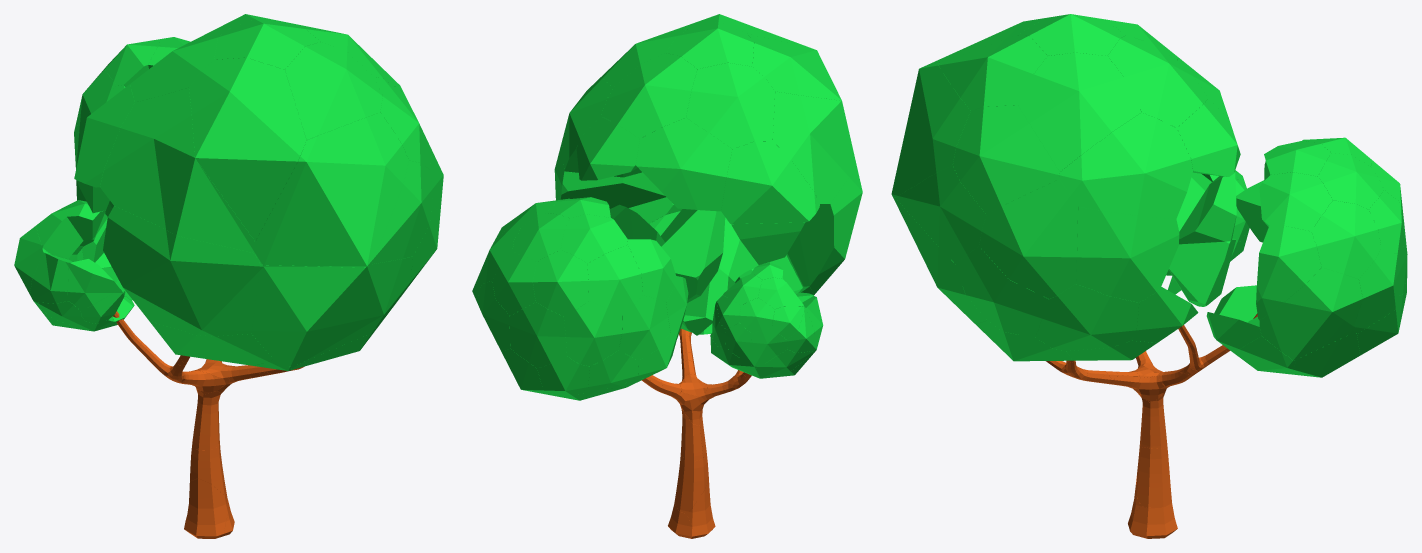
File: kırılan1.fbx
3 views of the same model, side by side, from view 1: azimuth 30°, elevation 25°; view 2: azimuth 150°, elevation 25°; view 3: azimuth 270°, elevation 25° (orthographic). The views are drawn at different scales.
Parts seen in each view (by area): view 1: Icosphere.002_cell.082, Icosphere.002_cell.022, Icosphere.002_cell.024, Icosphere.002_cell.020, Icosphere.002_cell.080, Icosphere.002_cell.059, Icosphere.002_cell.093, Icosphere.002_cell.011, Icosphere.002_cell.077, Icosphere.002_cell.015, Icosphere.002_cell.064, Icosphere.002_cell.070 (+18 smaller); view 2: Icosphere.002_cell.020, Icosphere.002_cell.025, Icosphere.002_cell.015, Icosphere.002_cell.077, Icosphere.002_cell.021, Icosphere.002_cell.024, Icosphere.002_cell.052, Icosphere.002_cell.022, Icosphere.002_cell.009, Icosphere.002_cell.069, Icosphere.002_cell.011, Icosphere.002_cell (+41 smaller); view 3: Icosphere.002_cell.094, Icosphere.002_cell.083, Icosphere.002_cell.042, Icosphere.002_cell.068, Icosphere.002_cell.070, Icosphere.002_cell.056, Icosphere.002_cell.082, Icosphere.002_cell.059, Icosphere.002_cell.098, Icosphere.002_cell.021, Icosphere.002_cell.093, Icosphere.002_cell.045 (+28 smaller).
Boxes of the visible parts, x1,y1,x2,y2 form: Icosphere.002_cell.082: (254, 112, 408, 267); Icosphere.002_cell.022: (189, 57, 306, 241); Icosphere.002_cell.024: (103, 206, 260, 336); Icosphere.002_cell.020: (100, 88, 255, 253); Icosphere.002_cell.080: (251, 256, 412, 366); Icosphere.002_cell.059: (285, 42, 382, 139); Icosphere.002_cell.093: (371, 160, 432, 264); Icosphere.002_cell.011: (214, 19, 319, 69); Icosphere.002_cell.077: (130, 28, 229, 102); Icosphere.002_cell.015: (74, 84, 134, 187); Icosphere.002_cell.064: (149, 321, 273, 365); Icosphere.002_cell.070: (373, 76, 431, 169); Icosphere.002_cell.020: (772, 91, 857, 203); Icosphere.002_cell.025: (635, 118, 732, 211); Icosphere.002_cell.015: (721, 141, 819, 223); Icosphere.002_cell.077: (686, 62, 775, 149); Icosphere.002_cell.021: (601, 53, 697, 138); Icosphere.002_cell.024: (786, 170, 862, 293); Icosphere.002_cell.052: (661, 209, 725, 302); Icosphere.002_cell.022: (748, 34, 841, 100); Icosphere.002_cell.009: (576, 116, 639, 180); Icosphere.002_cell.069: (564, 301, 622, 366); Icosphere.002_cell.011: (666, 21, 753, 69); Icosphere.002_cell: (532, 250, 588, 316); Icosphere.002_cell.094: (1059, 112, 1192, 218); Icosphere.002_cell.083: (1018, 52, 1141, 171); Icosphere.002_cell.042: (979, 179, 1077, 298); Icosphere.002_cell.068: (1076, 207, 1179, 302); Icosphere.002_cell.070: (952, 105, 1059, 214); Icosphere.002_cell.056: (1259, 267, 1362, 360); Icosphere.002_cell.082: (891, 63, 970, 197); Icosphere.002_cell.059: (938, 35, 1047, 110); Icosphere.002_cell.098: (1035, 284, 1139, 350); Icosphere.002_cell.021: (1108, 35, 1207, 127); Icosphere.002_cell.093: (896, 165, 986, 263); Icosphere.002_cell.045: (955, 246, 1048, 337).
Size of the model in its own units: 910 by 1410 by 1257.
